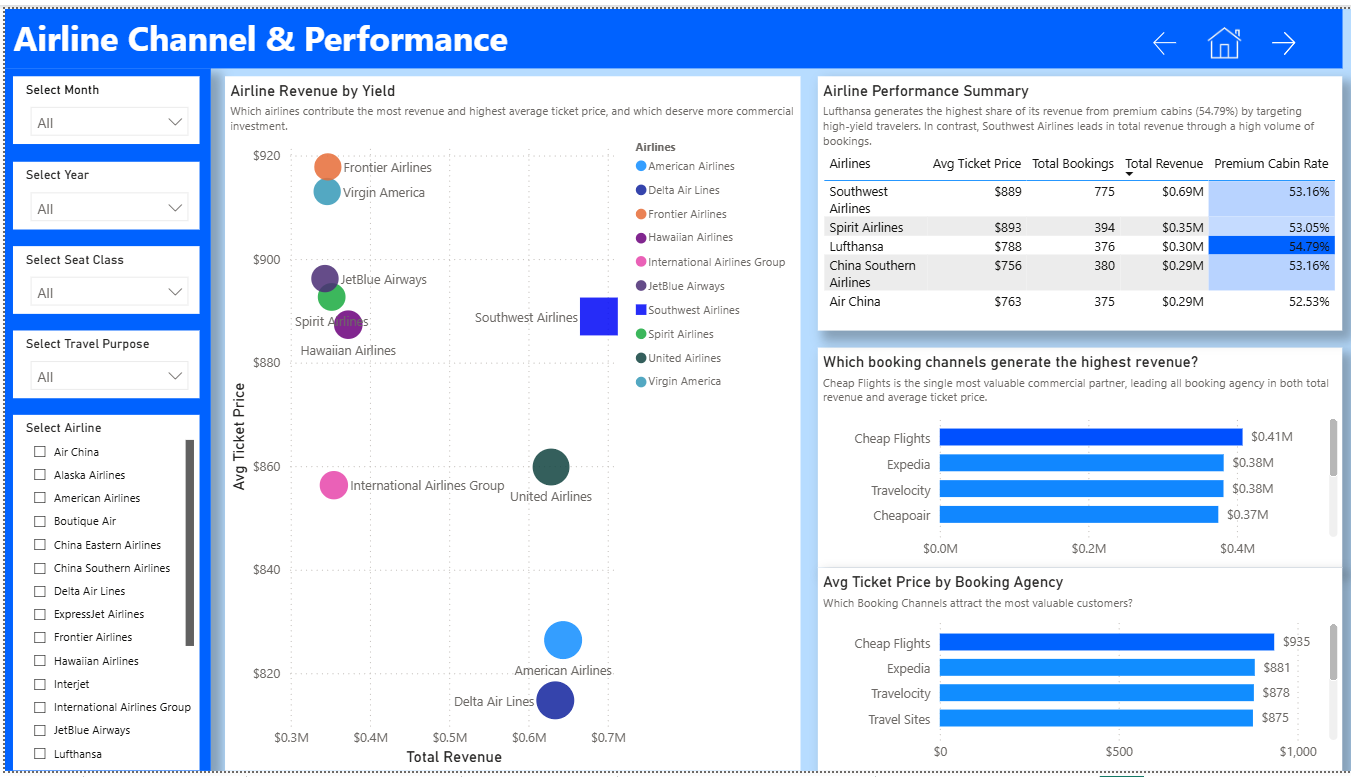

The dashboard page shown, as its layout file describes it:
{"tool":"powerbi","page":{"name":"Air Channel & Performance","canvas":[1280,720],"ordinal":2},"visuals":[{"type":"clusteredBarChart","title":"Which booking channels generate the highest revenue?","fields":{"Category":["Flights.Booking Agency"],"Y":["_Measures.Total Revenue"]},"box":[768,320,496,208],"z":0},{"type":"shape","box":[0,56,194.5,664],"z":1000},{"type":"image","box":[1120,16,64,32],"z":2000},{"type":"clusteredBarChart","title":"Avg Ticket Price by Booking Agency","fields":{"Category":["Flights.Booking Agency"],"Y":["_Measures.Avg Ticket Price"]},"box":[768,528,496,192],"z":3000},{"type":"textbox","box":[0,0,1264,56],"z":4000},{"type":"slicer","title":"Select Month","fields":{"Values":["Date.Month Name"]},"box":[8,64,176,64],"z":5000},{"type":"actionButton","box":[1184,16,48,32],"z":6000},{"type":"tableEx","title":"Airline Performance Summary","fields":{"Values":["Flights.Airlines","_Measures.Avg Ticket Price","_Measures.Total Bookings","_Measures.Total Revenue","_Measures.Premium Cabin Rate"]},"box":[768,64,496,240],"z":7000},{"type":"slicer","title":"Select Year","fields":{"Values":["Date.Year"]},"box":[8,144,176,64],"z":8000},{"type":"scatterChart","title":"Airline Revenue by Yield","fields":{"X":["_Measures.Total Revenue"],"Category":["Flights.Airlines"],"Y":["_Measures.Avg Ticket Price"],"Size":["_Measures.Total Bookings"],"Series":["Flights.Airlines"]},"box":[208,64,544,656],"z":9000},{"type":"slicer","title":"Select Seat Class","fields":{"Values":["Flights.Seat class"]},"box":[8,224,176,64],"z":10000},{"type":"slicer","title":"Select Travel Purpose","fields":{"Values":["Flights.Travel Purpose"]},"box":[8,304,176,64],"z":11000},{"type":"slicer","title":"Select Airline","fields":{"Values":["Flights.Airlines"]},"box":[8,384,176,336],"z":12000},{"type":"actionButton","box":[1072,16,48,32],"z":13000},{"type":"image","box":[1120,16,64,32],"z":14000},{"type":"actionButton","box":[1184,16,48,32],"z":15000}]}

Visuals, with their boxes in screenshot pixels (x1, y1, x2, y2), scaled from the page's 1280x720 canvas onto the 1351x777 screenshot:
"Which booking channels generate the highest revenue?" clusteredBarChart: region(811, 345, 1334, 570)
shape: region(0, 60, 205, 776)
image: region(1182, 17, 1250, 52)
"Avg Ticket Price by Booking Agency" clusteredBarChart: region(811, 570, 1334, 776)
textbox: region(0, 0, 1334, 60)
"Select Month" slicer: region(8, 69, 194, 138)
actionButton: region(1250, 17, 1300, 52)
"Airline Performance Summary" tableEx: region(811, 69, 1334, 328)
"Select Year" slicer: region(8, 155, 194, 224)
"Airline Revenue by Yield" scatterChart: region(220, 69, 794, 776)
"Select Seat Class" slicer: region(8, 242, 194, 311)
"Select Travel Purpose" slicer: region(8, 328, 194, 397)
"Select Airline" slicer: region(8, 414, 194, 776)
actionButton: region(1131, 17, 1182, 52)
image: region(1182, 17, 1250, 52)
actionButton: region(1250, 17, 1300, 52)
